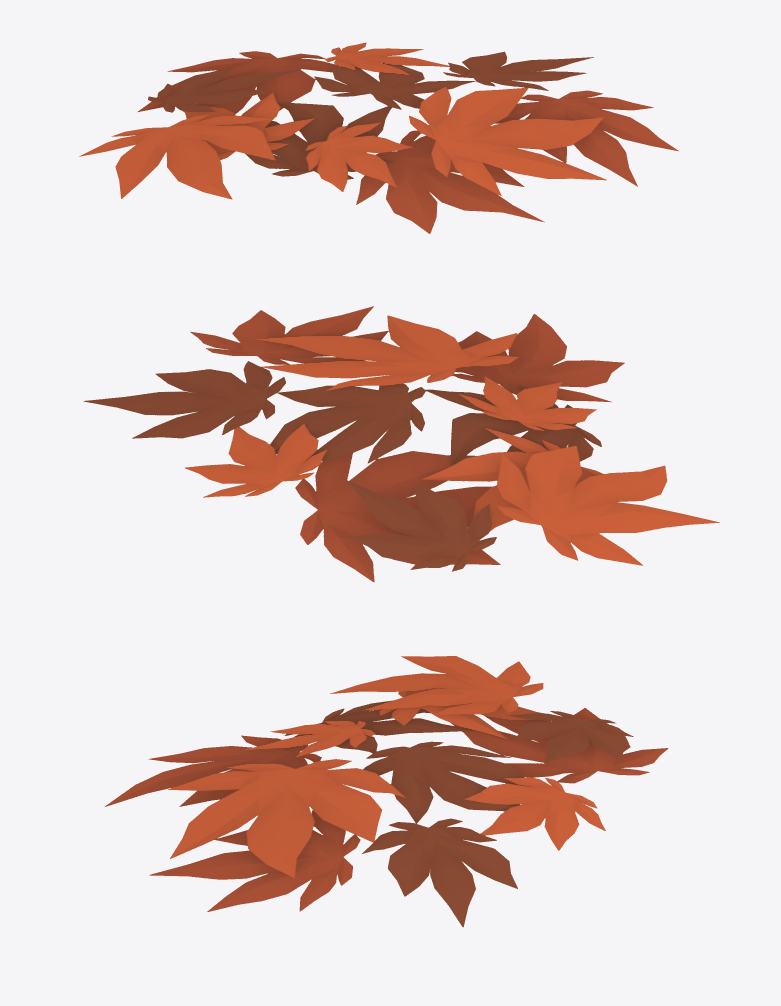
File: SM_Env_Maple_Small_03.fbx
3 renders of one model, top to bottom at view 1: azimuth 30°, elevation 25°; view 2: azimuth 150°, elevation 25°; view 3: azimuth 270°, elevation 25°, orthographic. The views are drawn at different scales.
Parts seen in each view (by area): view 1: SM_Env_Maple_Small_03; view 2: SM_Env_Maple_Small_03; view 3: SM_Env_Maple_Small_03.
Boxes of the visible parts, x1=… form: SM_Env_Maple_Small_03: x1=79, y1=42, x2=678, y2=233; SM_Env_Maple_Small_03: x1=83, y1=306, x2=719, y2=582; SM_Env_Maple_Small_03: x1=105, y1=656, x2=668, y2=927.
Bounding box in the file's own units: 200 × 12.41 × 172.
